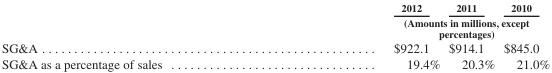table: (0, 1, 549, 70)
table column: (0, 1, 277, 70), (277, 1, 443, 70), (443, 1, 498, 70), (498, 1, 549, 70)
table column header: (0, 1, 549, 39)
table row: (0, 14, 549, 39), (0, 39, 549, 55), (0, 55, 549, 70), (0, 1, 549, 14)
table spanning cell: (277, 14, 549, 39)
